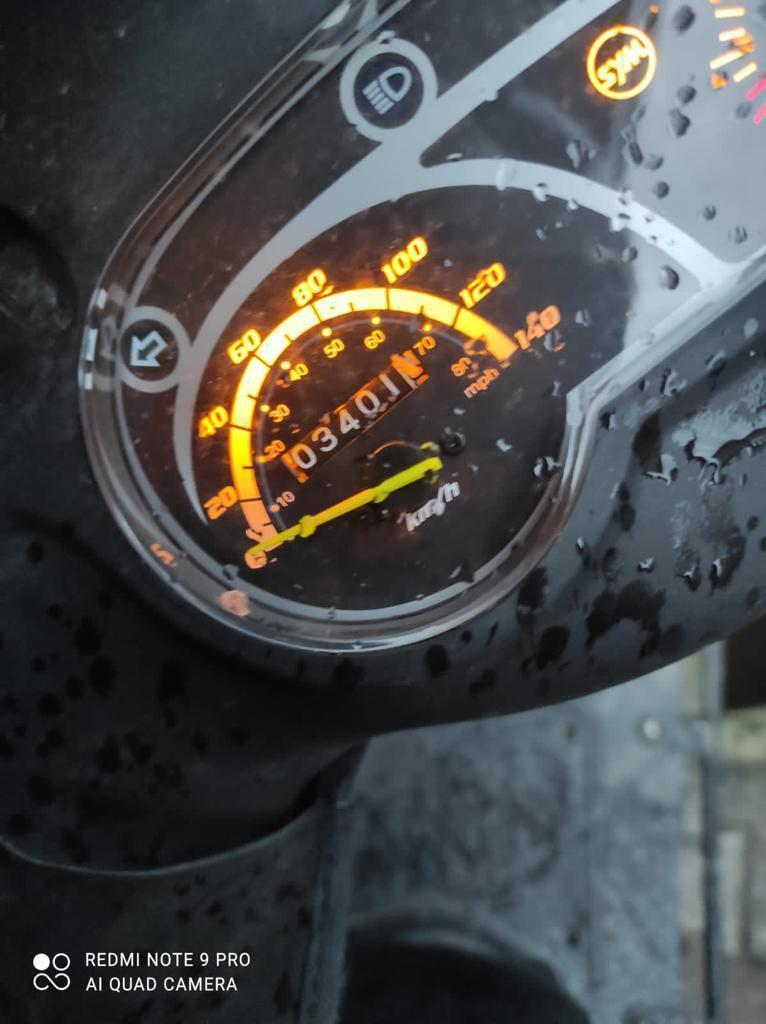0: (352, 387, 383, 416), (291, 443, 317, 470), (294, 361, 310, 375), (277, 401, 291, 416), (330, 338, 346, 351), (272, 438, 286, 452)
1: (377, 371, 401, 397)
3: (310, 427, 339, 453), (268, 409, 283, 423)
4: (337, 407, 363, 436), (288, 369, 303, 383)
5: (320, 344, 338, 358)
6: (362, 336, 378, 349)
7: (414, 342, 426, 356)
8: (401, 364, 431, 385)
odometer: (277, 342, 434, 482)
